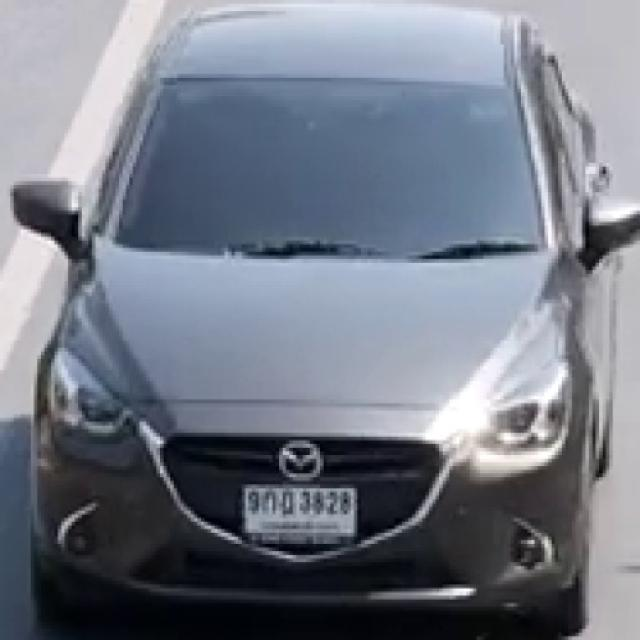plate: (245, 484, 358, 538)
